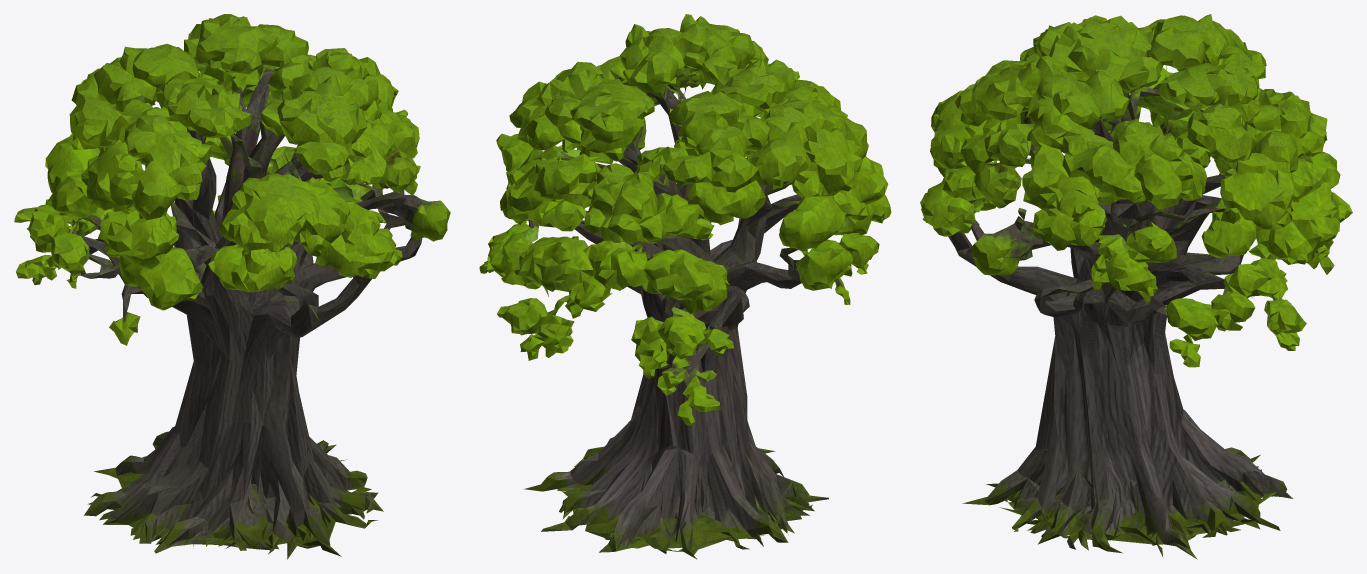
File: tree.glb
The picture shows the model from 3 angles, left to right: view 1: azimuth 30°, elevation 25°; view 2: azimuth 150°, elevation 25°; view 3: azimuth 270°, elevation 25°; orthographic projection. The views are drawn at different scales.
Size of the model in its own units: 1.63 by 1.9 by 1.63.
Materials: 1 (1 with a texture image).
